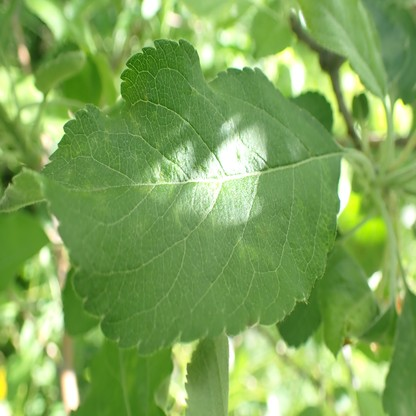scab: (236, 234, 256, 264), (259, 220, 268, 238)
